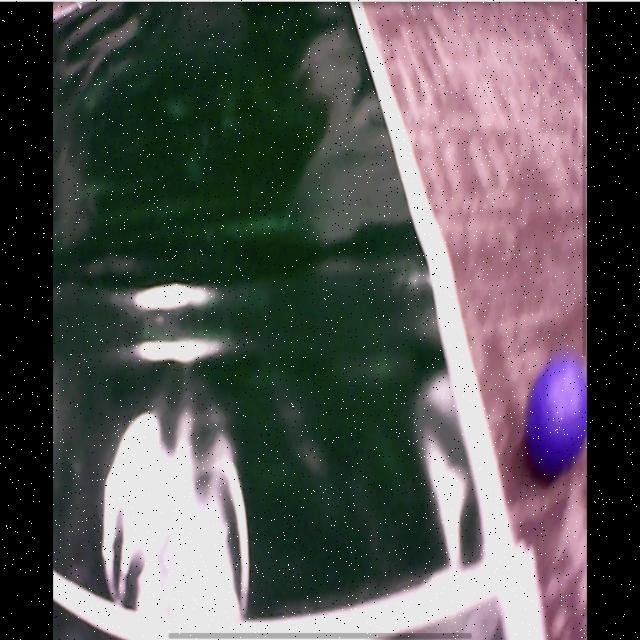ball: (526, 361, 586, 469)
